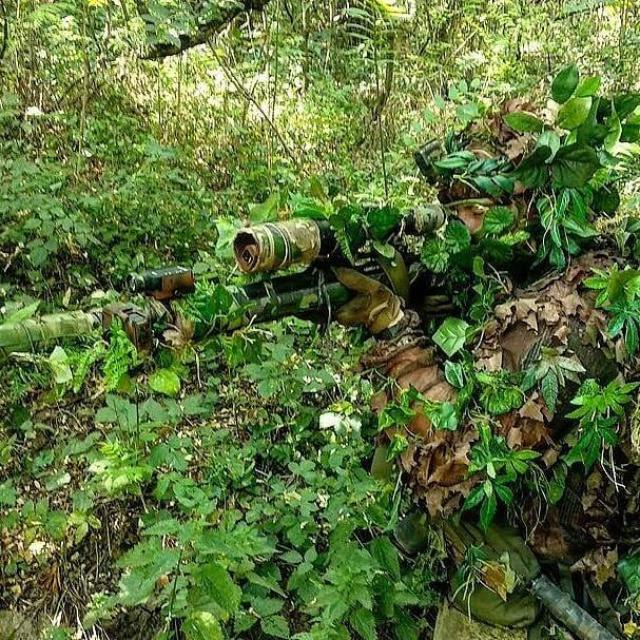Camouflage: (6, 100, 631, 588)
